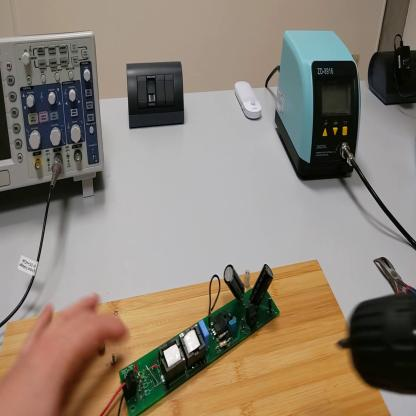electric screwdriver: (341, 283, 416, 396)
hand: (1, 291, 131, 416)
high voltage board: (103, 264, 285, 416)
oscilloscope: (2, 32, 109, 215)
pliers: (375, 248, 415, 300)
socket: (367, 44, 416, 110)
welder station: (275, 28, 363, 183)
working area: (2, 260, 392, 416)
